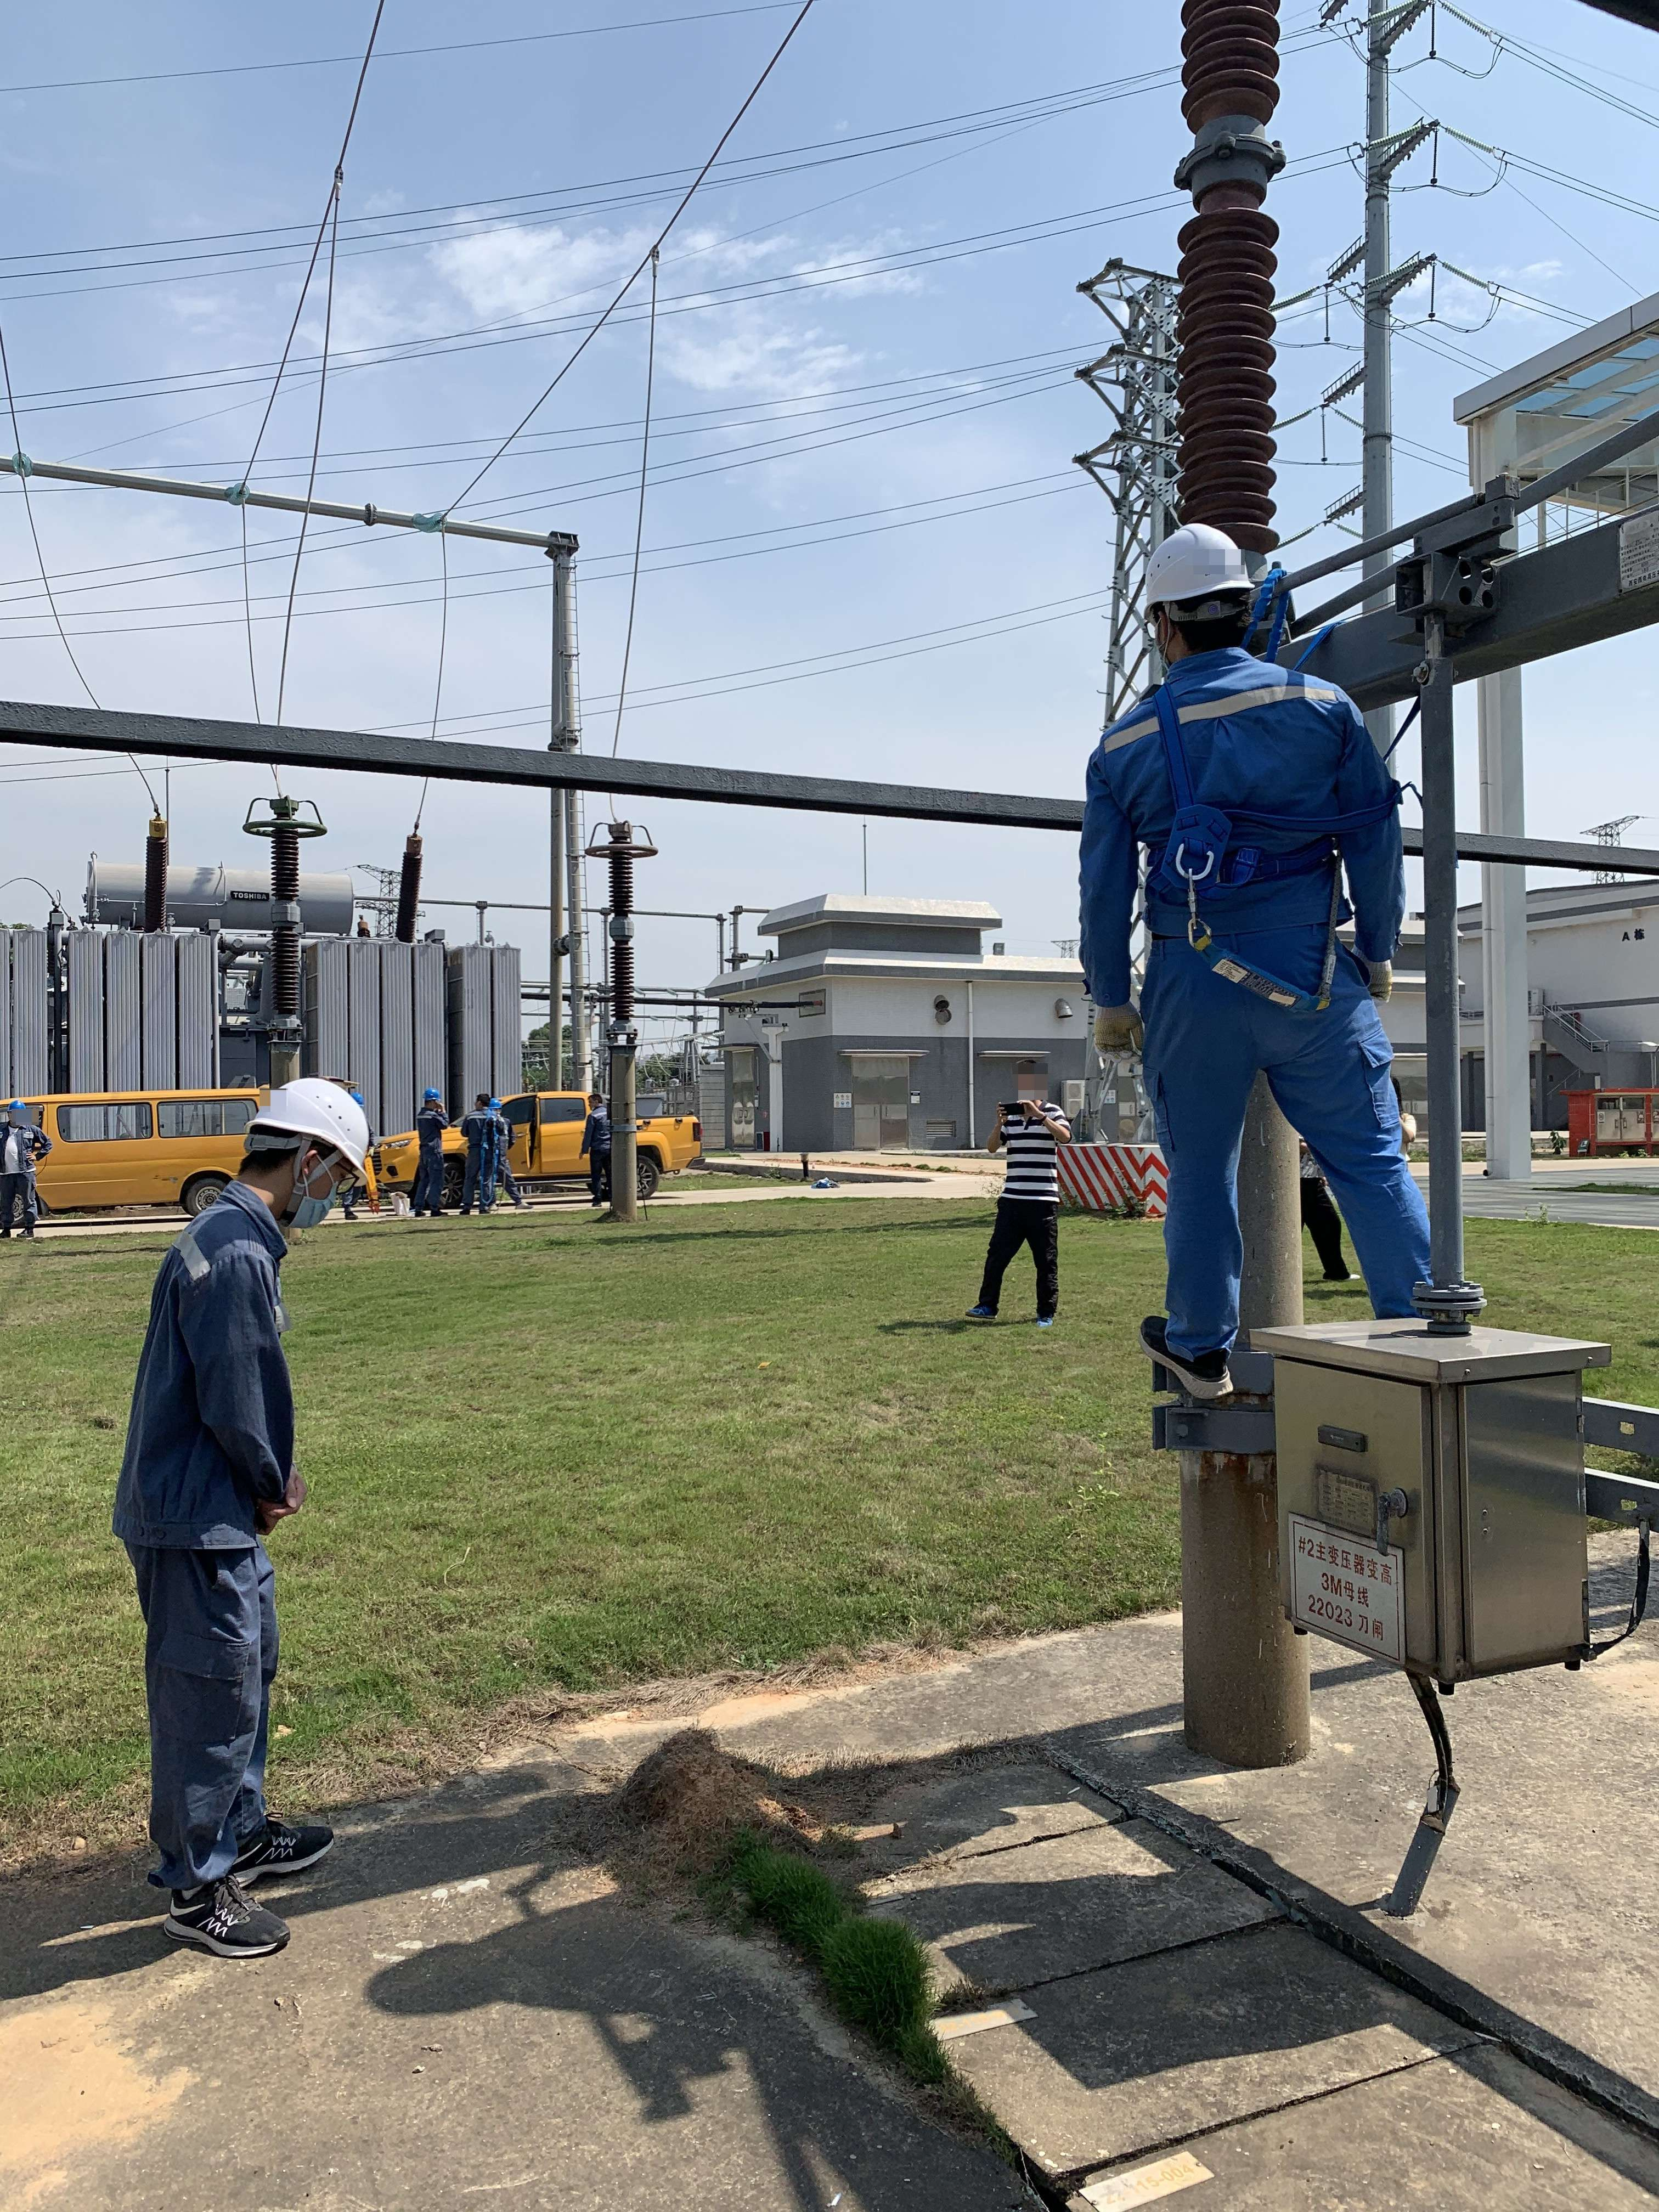downcloth: (983, 1211, 1065, 1313)
downsuit: (1150, 1031, 1438, 1339), (136, 1545, 291, 1724), (416, 1158, 448, 1212), (469, 1160, 493, 1205), (498, 1158, 523, 1204), (591, 1157, 613, 1200)
upcloth: (993, 1120, 1066, 1205)
upsuit: (1087, 662, 1384, 1019), (129, 1207, 312, 1534), (2, 1125, 47, 1176), (469, 1111, 500, 1155), (587, 1111, 613, 1153), (422, 1109, 446, 1153)
